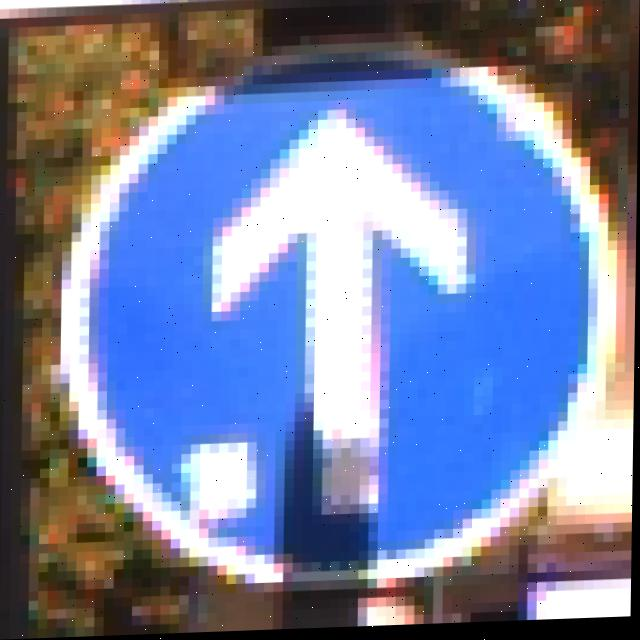compulsory_ahead: (33, 27, 613, 603)
